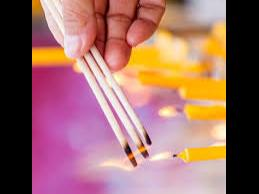controlled_fire: (89, 96, 192, 187)
